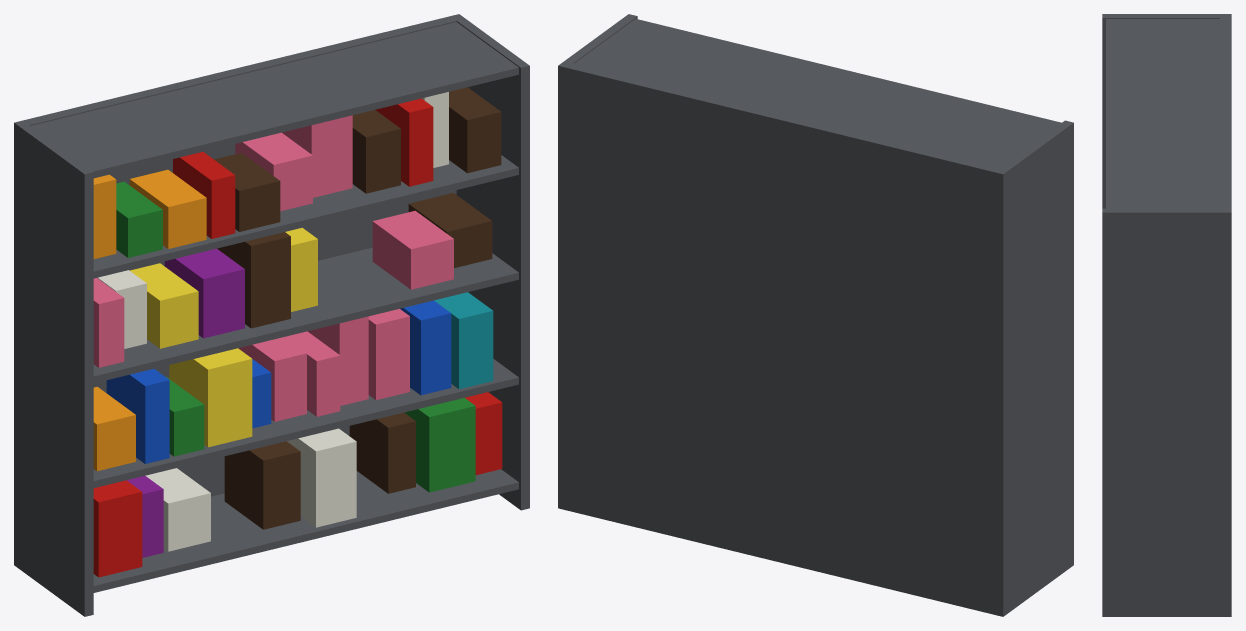
Rendered from grocery_shelf.glb.
3 renders of one model, left to right at view 1: azimuth 30°, elevation 25°; view 2: azimuth 150°, elevation 25°; view 3: azimuth 270°, elevation 25°, orthographic. The views are drawn at different scales.
Parts seen in each view (by area): view 1: grocery_shelf; view 2: grocery_shelf; view 3: grocery_shelf.
Boxes of the visible parts, bbox=[...] form: grocery_shelf: bbox=[14, 14, 529, 616]; grocery_shelf: bbox=[558, 14, 1073, 616]; grocery_shelf: bbox=[1102, 14, 1231, 616].
Size of the model in its own units: 2 by 1.9 by 0.55.
1 material, 1 textured.
